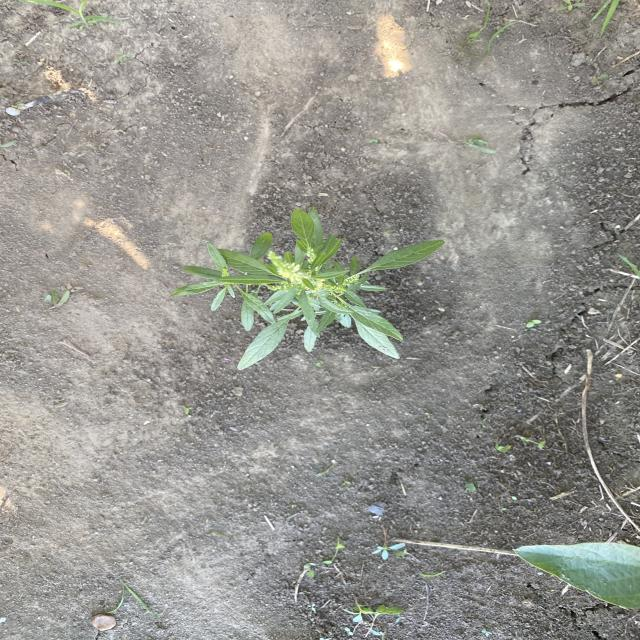Waterhemp: (169, 203, 447, 373)
